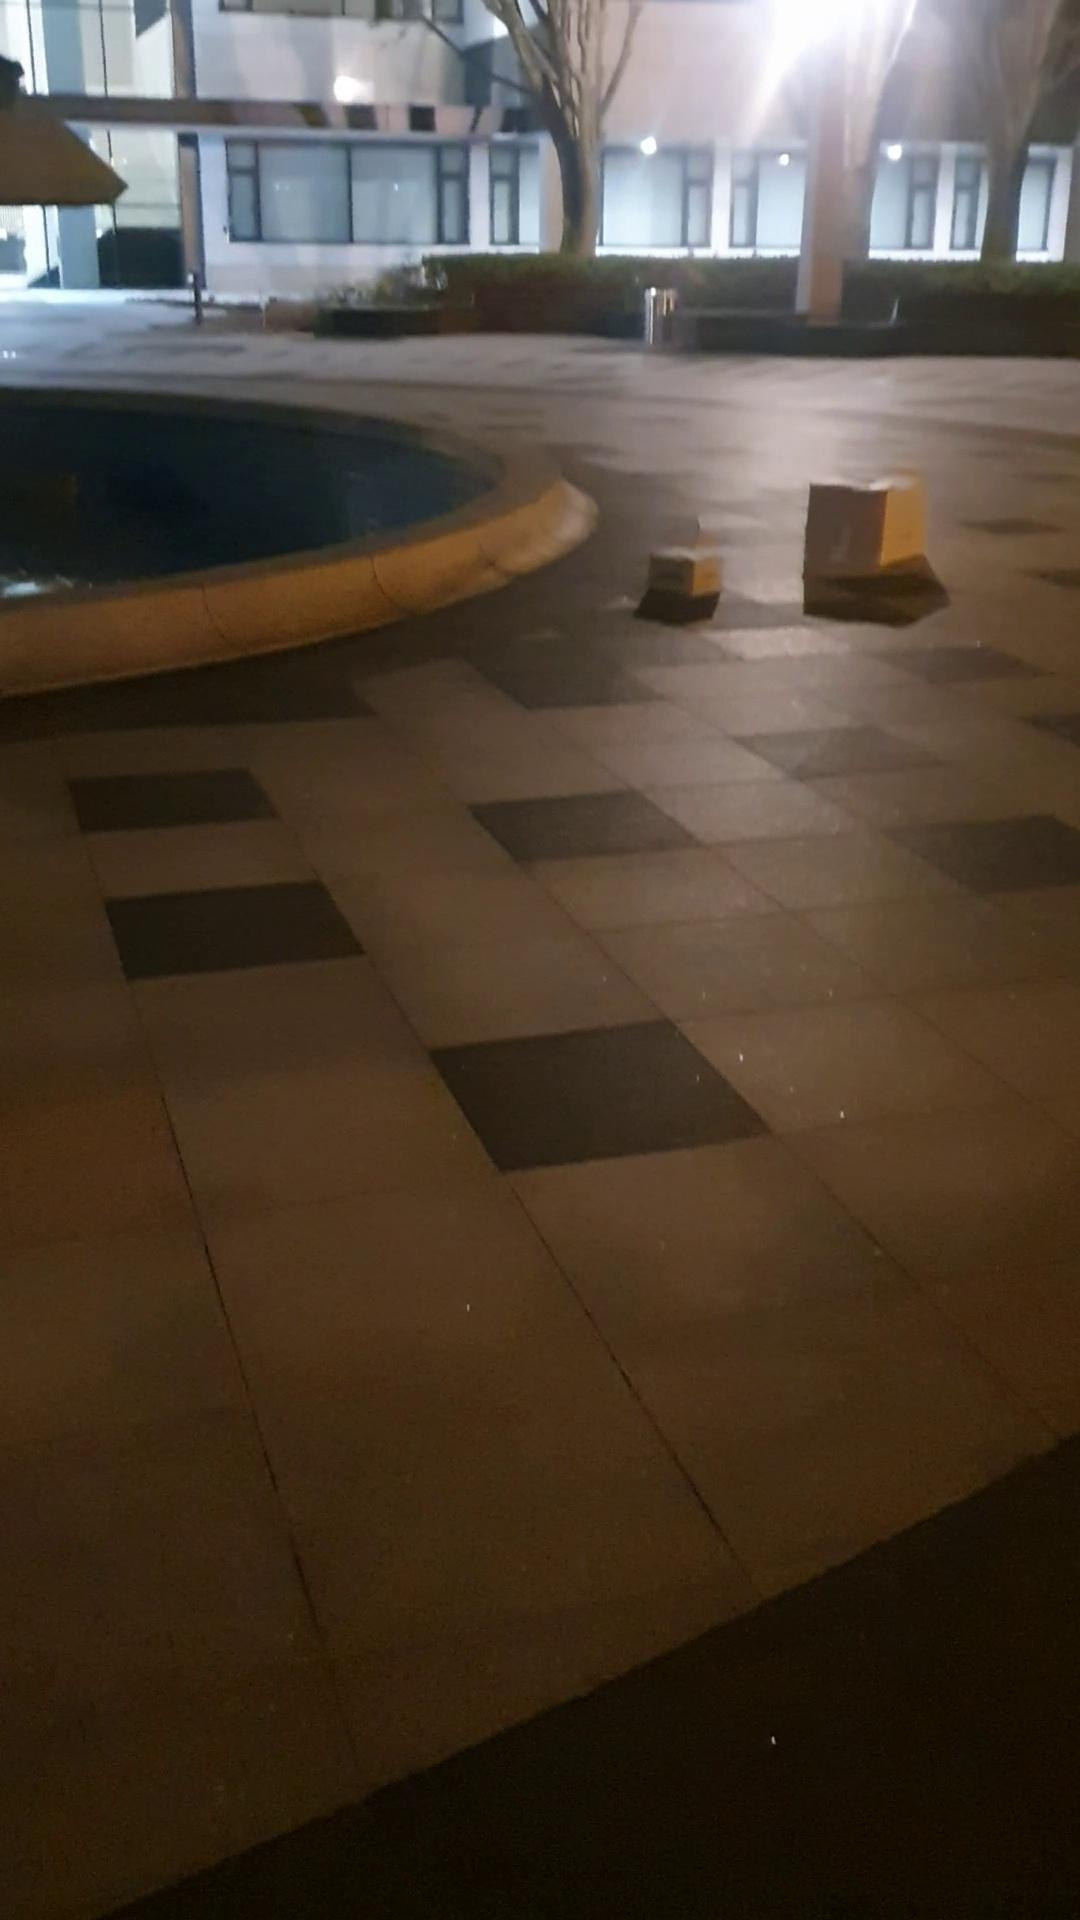Box: (800, 450, 927, 597), (638, 527, 727, 605)
